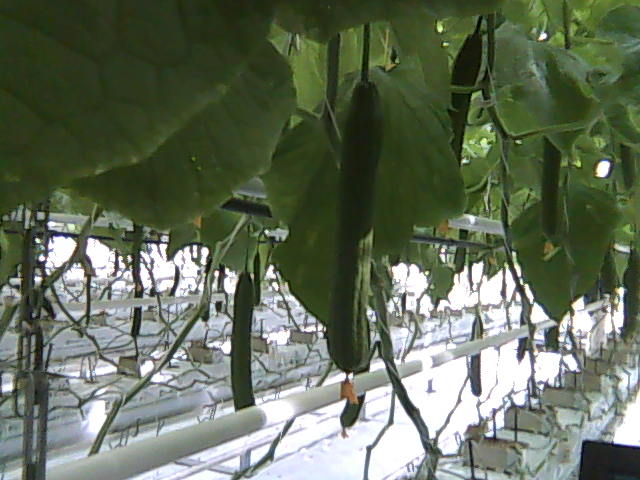concombre: (324, 72, 393, 408)
